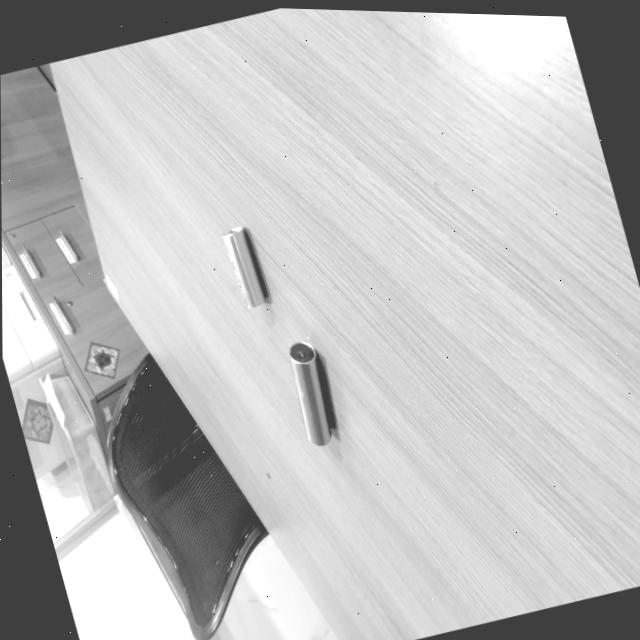Co_Lon: (287, 339, 332, 448)
Co_Nho: (219, 225, 268, 310)
